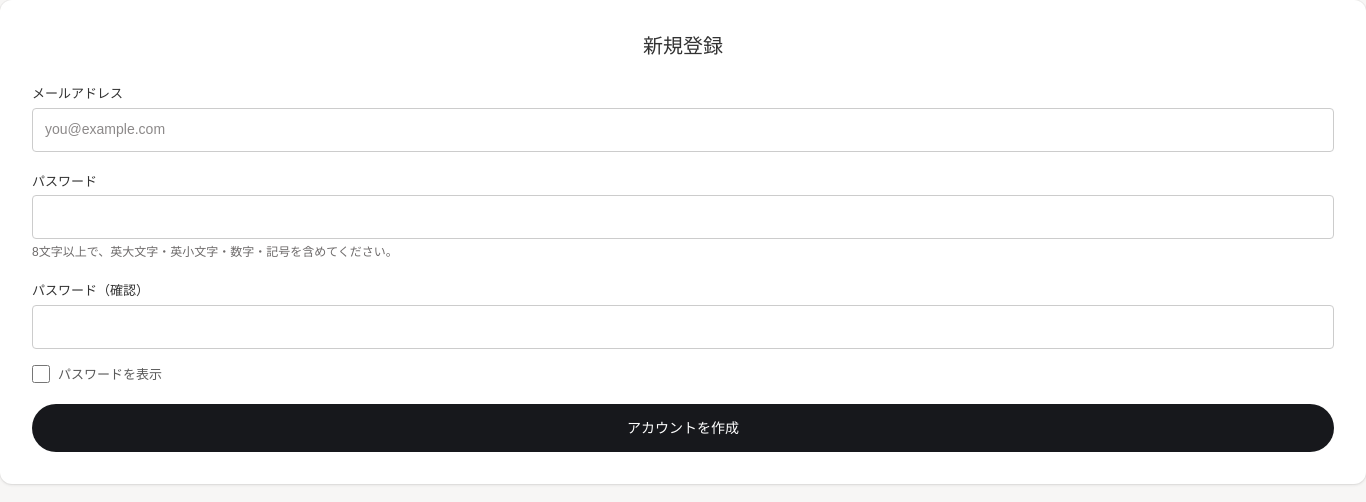
Test: shows generic verification guidance without creating a session
Type "test@example.com" into the field labelled "メールアドレス" at {"x": 683, "y": 130}, box [32,108,1334,152]
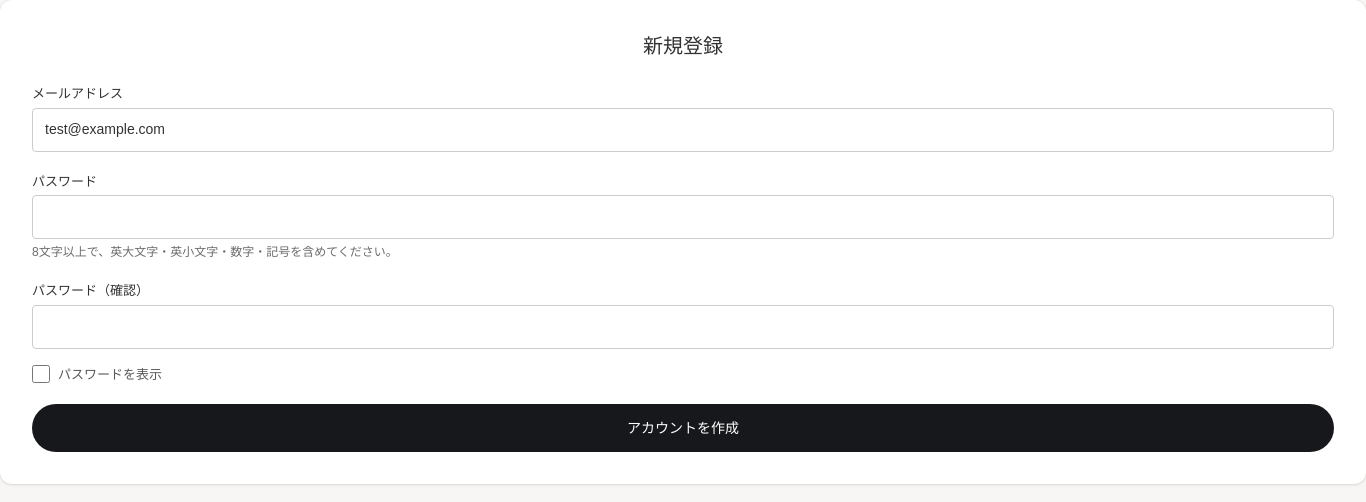
Type "Password1!" into the password field labelled "パスワード" at {"x": 683, "y": 217}, box [32,195,1334,239]
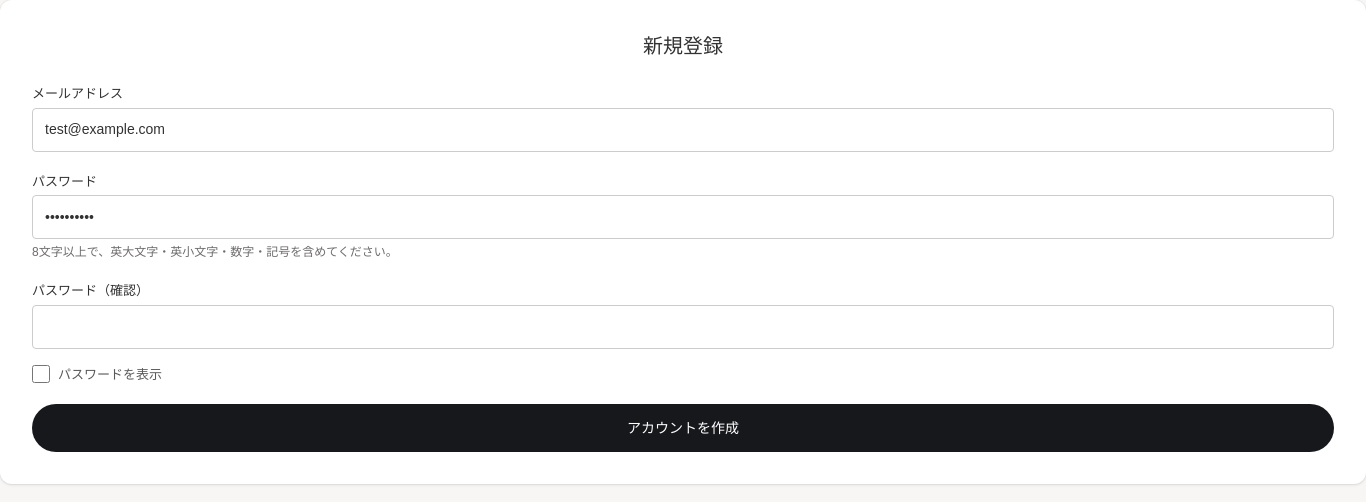
Type "Password1!" into the password field labelled "パスワード（確認）" at {"x": 683, "y": 326}, box [32,304,1334,348]
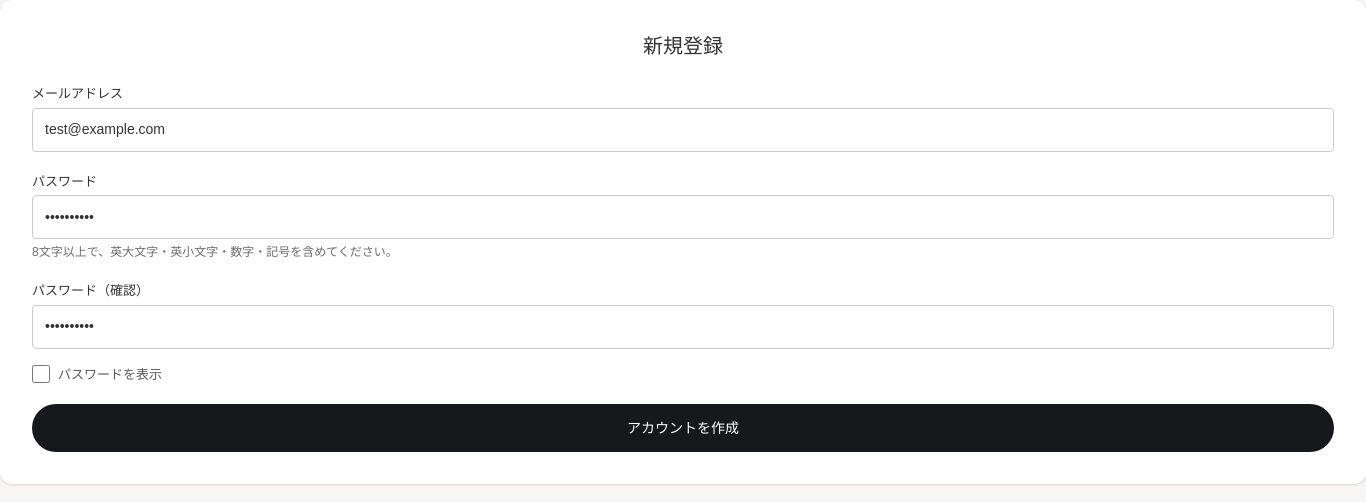
Click the button "アカウントを作成" at {"x": 683, "y": 428}, box [32,404,1334,452]
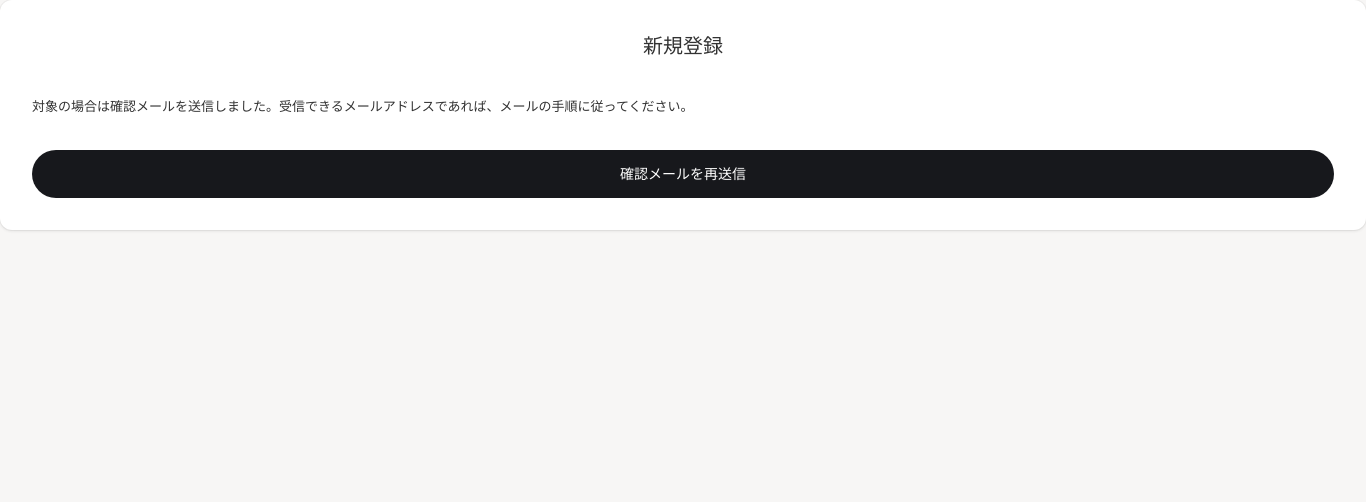
Now the message shows "確認メールを送信しました", box [32,99,694,114]
Now the button "確認メールを再送信" is shown, box [32,150,1334,198]
